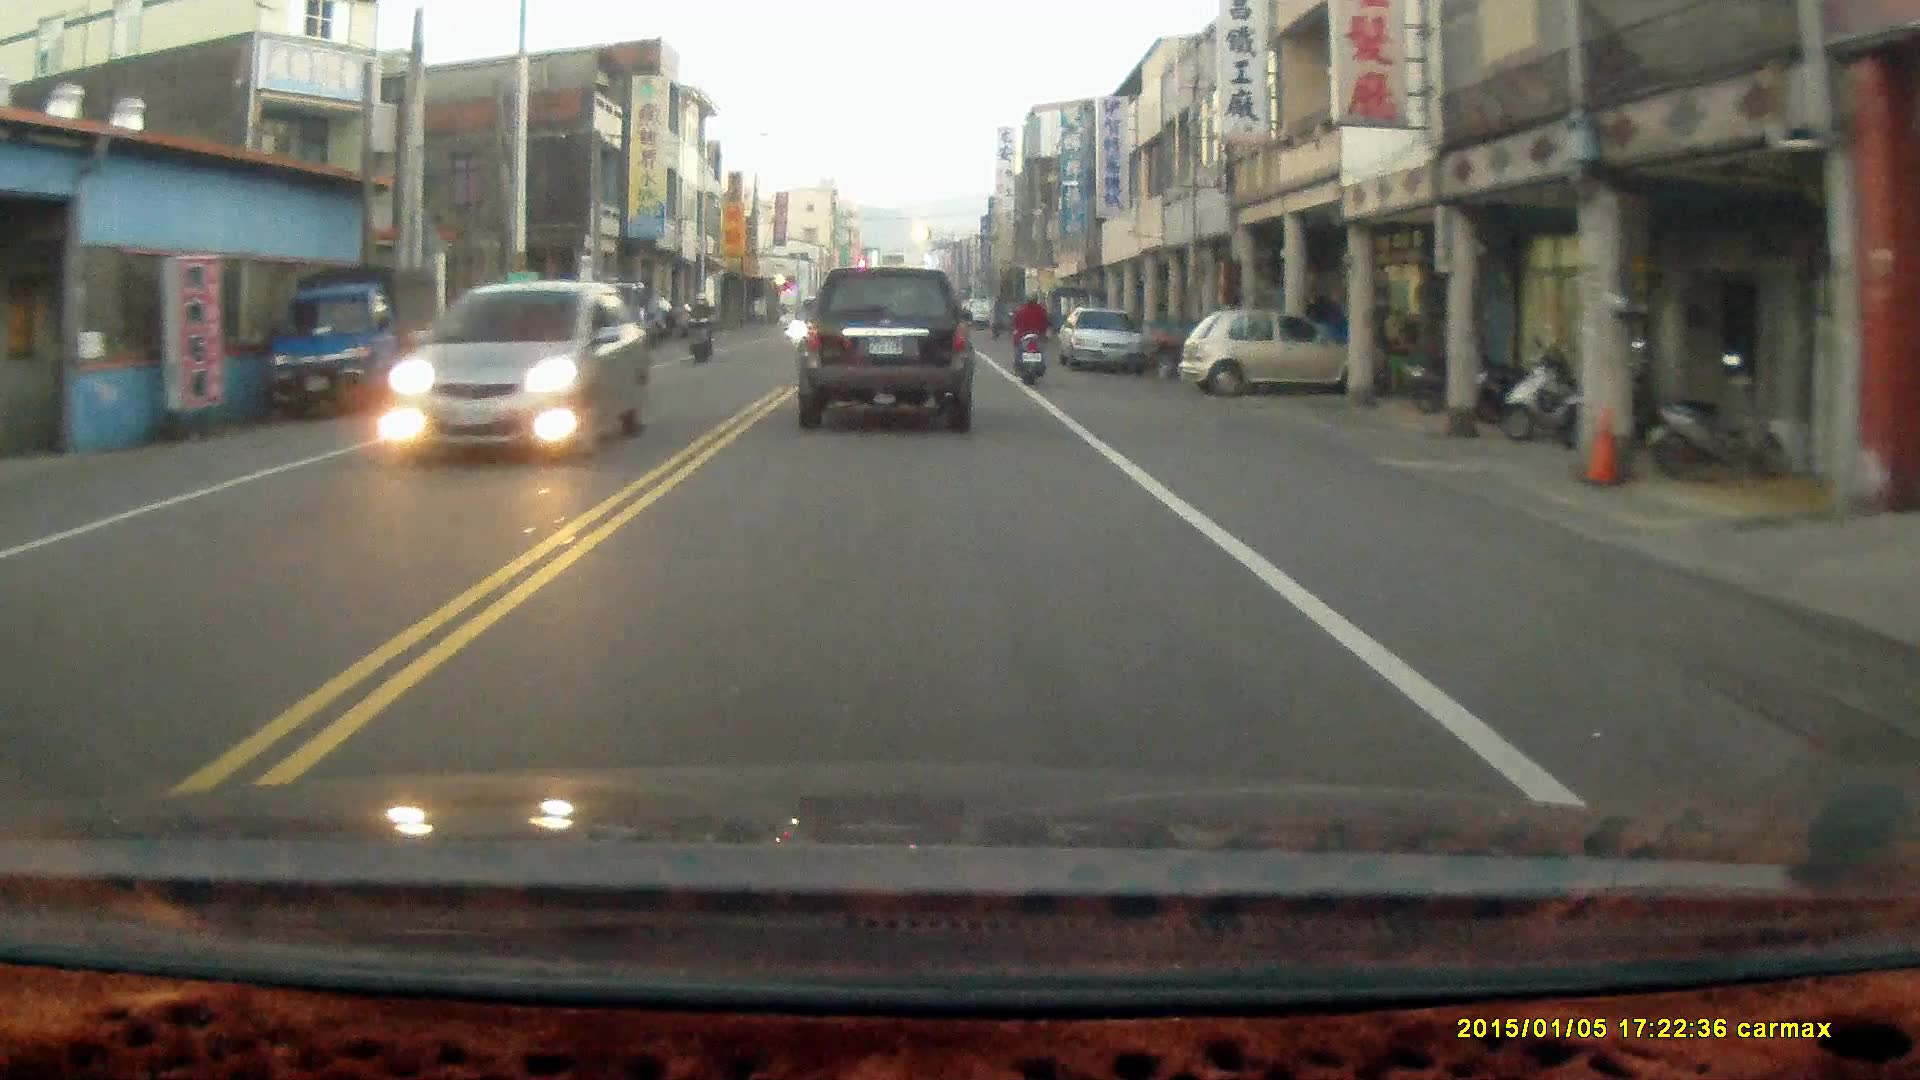rider: (1010, 288, 1048, 384), (685, 295, 716, 366)
vehicle: (375, 274, 648, 460), (794, 261, 975, 434), (266, 260, 444, 414), (1184, 306, 1372, 398), (1059, 309, 1150, 371)
